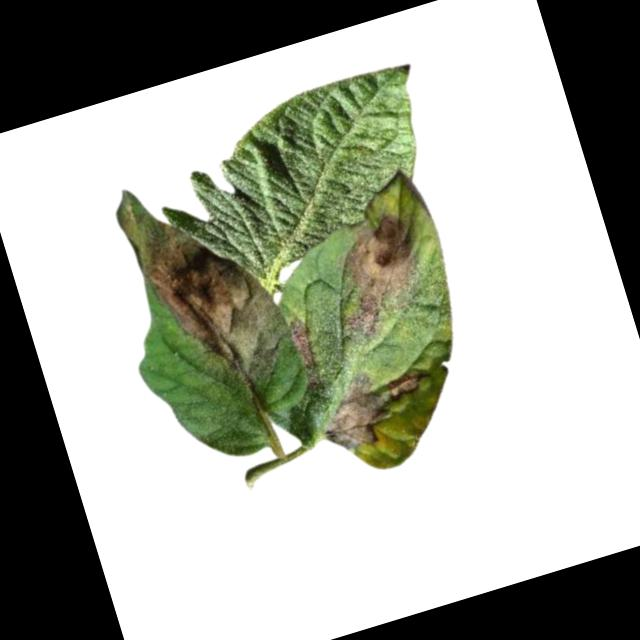Late_blight: (109, 166, 300, 421), (316, 205, 439, 350), (308, 352, 445, 462), (284, 311, 319, 373)
